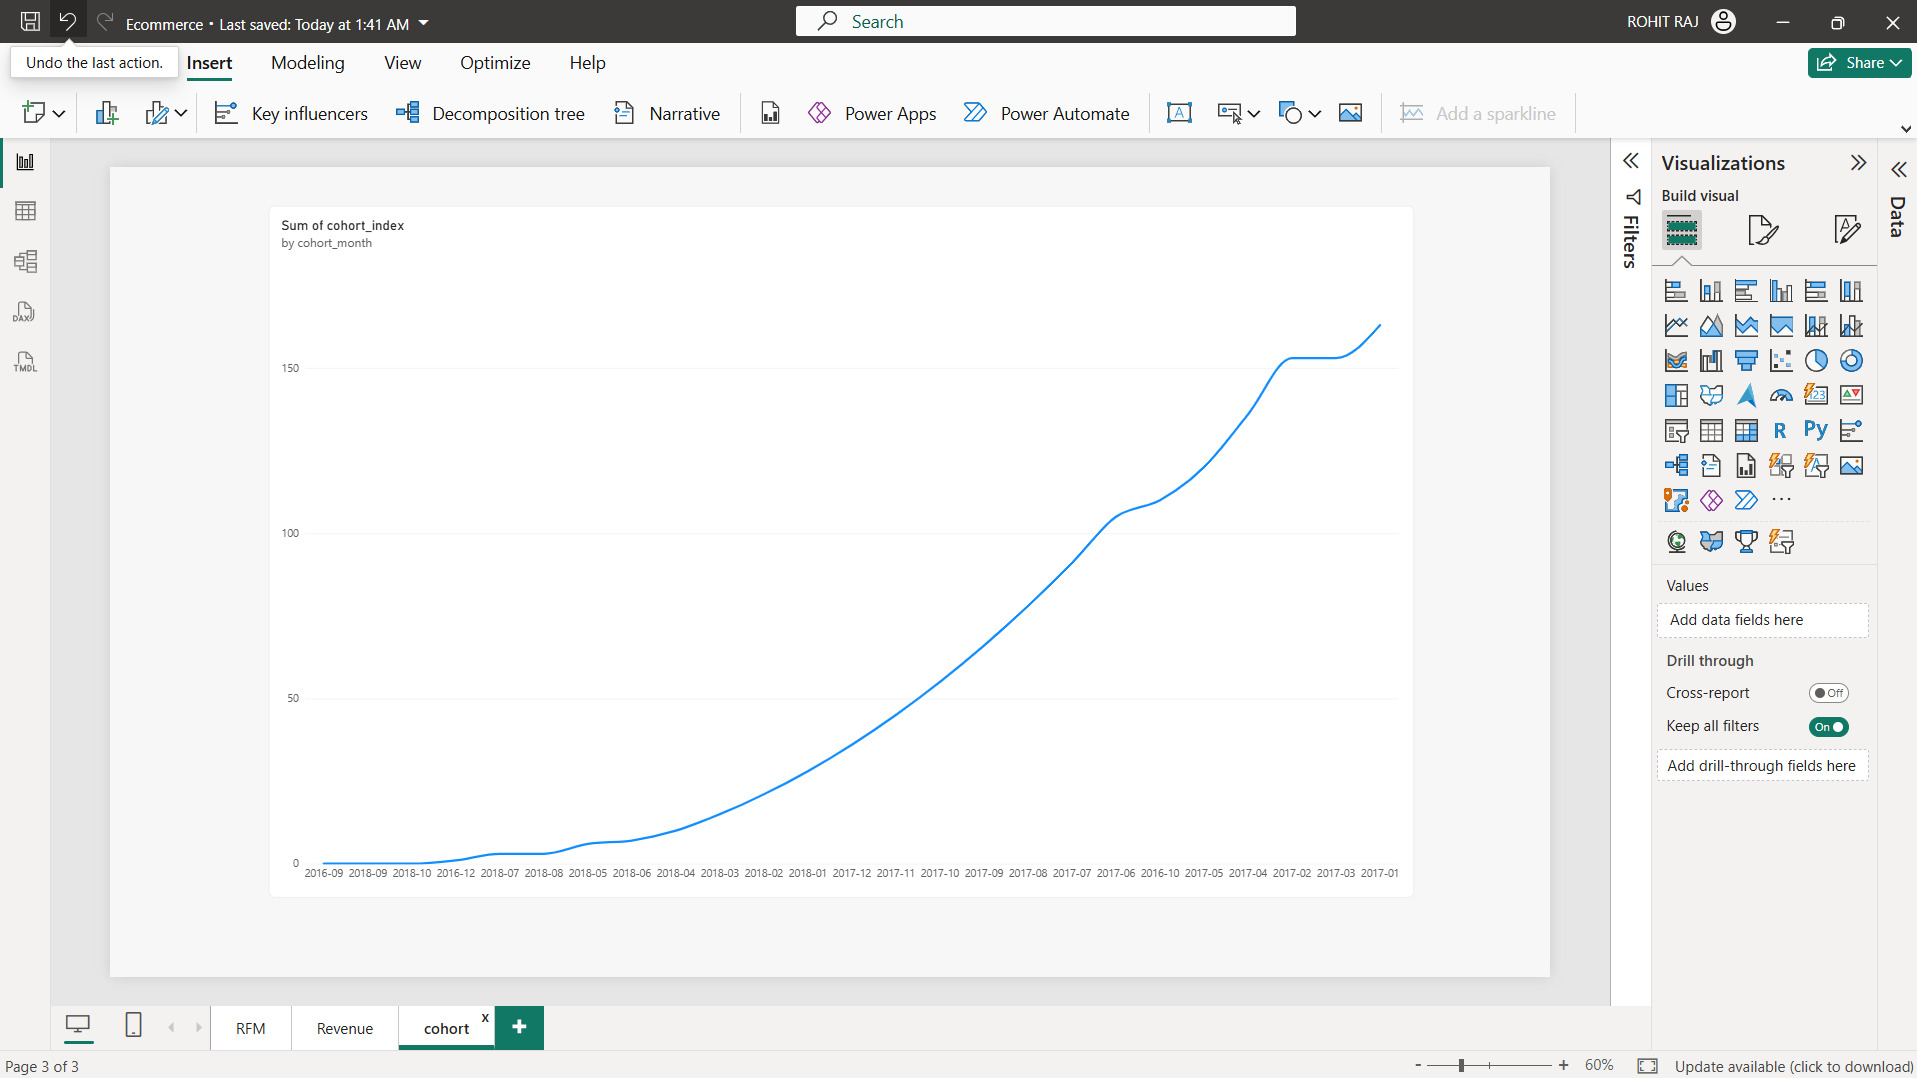

Layout of this report page (visuals, bound fields, positions):
{"tool":"powerbi","page":{"name":"cohort","canvas":[1920,1080],"ordinal":2},"visuals":[{"type":"lineChart","fields":{"Category":["cohort_analysis.cohort_month"],"Y":["Sum(cohort_analysis.cohort_index)"]},"box":[212,52,1527.5,922.5],"z":0}]}

Visuals, with their boxes on the page's 1920x1080 design canvas (x1, y1, x2, y2). These are canvas units, not pixel positions in the 1917x1078 screenshot, which may show the page scaled, cropped or inside an application window:
lineChart - cohort_analysis.cohort_month x Sum(cohort_analysis.cohort_index): {"left": 212, "top": 52, "right": 1740, "bottom": 974}
